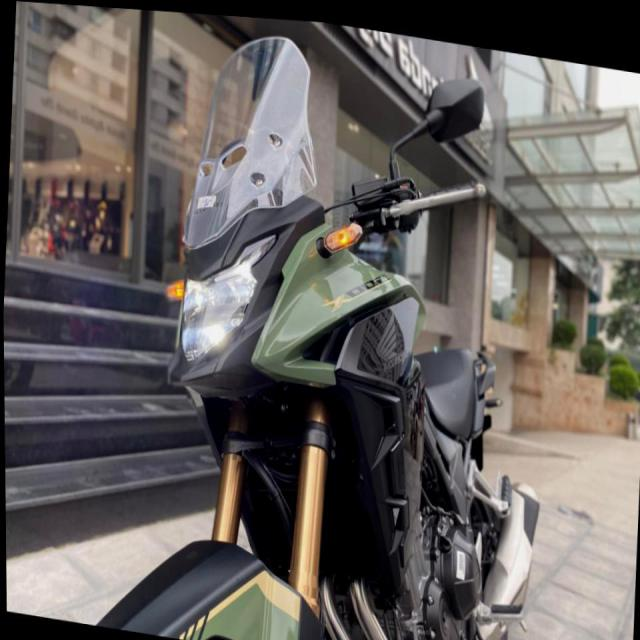CB500X: (82, 6, 565, 639)
